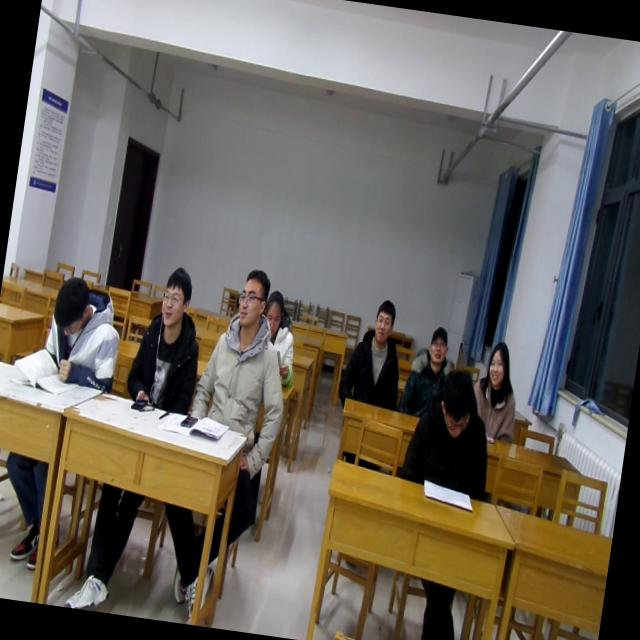down: (430, 366, 481, 448), (46, 267, 96, 342), (262, 286, 293, 336)
lookup: (233, 262, 276, 334), (155, 261, 194, 331), (480, 335, 514, 395), (366, 293, 400, 348), (421, 318, 452, 368)
sit: (190, 263, 304, 437), (396, 362, 504, 502), (122, 264, 211, 412), (34, 274, 128, 397), (334, 294, 412, 413), (465, 336, 529, 446), (398, 322, 464, 422), (253, 287, 304, 393)
